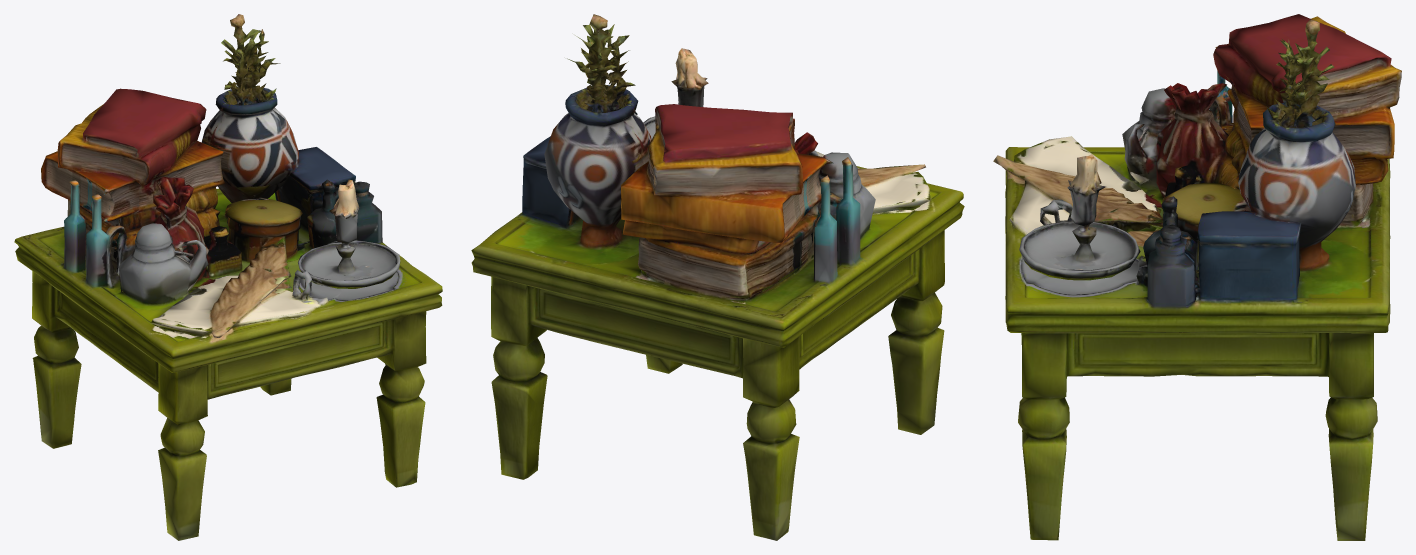
The model's file is small_table.fbx.
3 renders of one model, left to right at view 1: azimuth 30°, elevation 25°; view 2: azimuth 150°, elevation 25°; view 3: azimuth 270°, elevation 25°, orthographic. The views are drawn at different scales.
Visible parts, largest first — view 1: Mesh1.0; view 2: Mesh1.0; view 3: Mesh1.0.
Part boxes in pixels (x1,y1,x2,y2): Mesh1.0: [14, 14, 442, 540]; Mesh1.0: [471, 14, 964, 540]; Mesh1.0: [993, 14, 1401, 540].
Size of the model in its own units: 138 by 191 by 146.
1 material, 1 textured.
